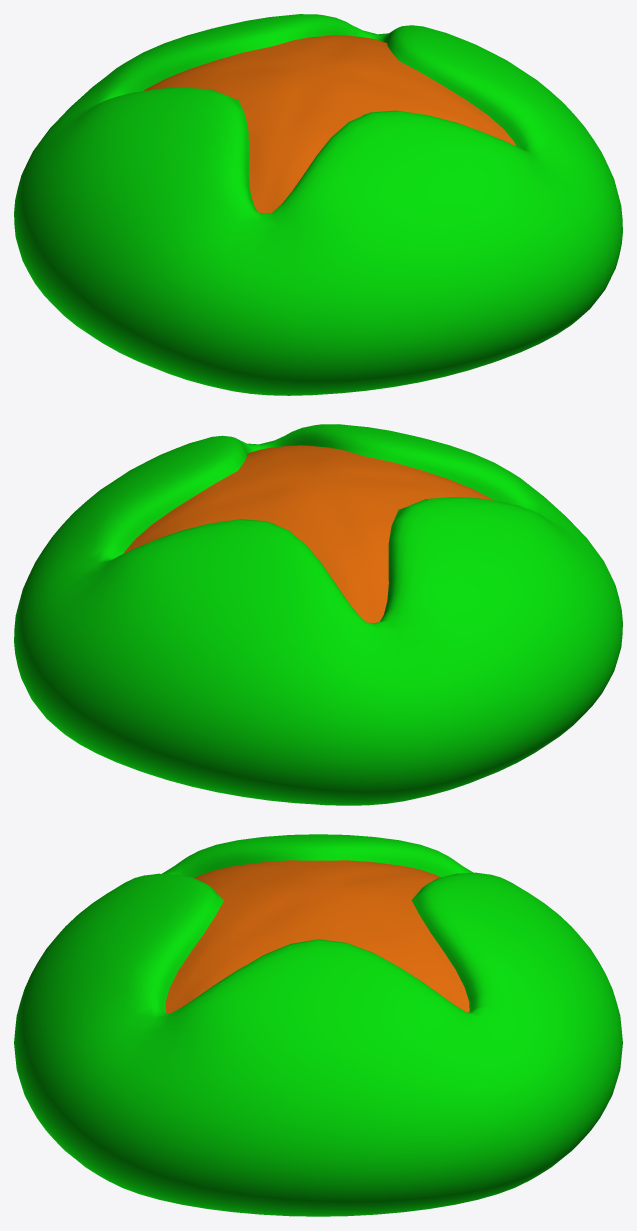
Rendered from star_bread.fbx.
The picture shows the model from 3 angles, top to bottom: view 1: azimuth 30°, elevation 25°; view 2: azimuth 150°, elevation 25°; view 3: azimuth 270°, elevation 25°; orthographic projection.
Parts seen in each view (by area): view 1: Cube.018; view 2: Cube.018; view 3: Cube.018.
Part boxes in pixels (x1=…): Cube.018: x1=14, y1=14, x2=622, y2=395; Cube.018: x1=14, y1=424, x2=622, y2=805; Cube.018: x1=14, y1=834, x2=622, y2=1216.
Bounding box in the file's own units: 21.6 × 9.27 × 21.6.
